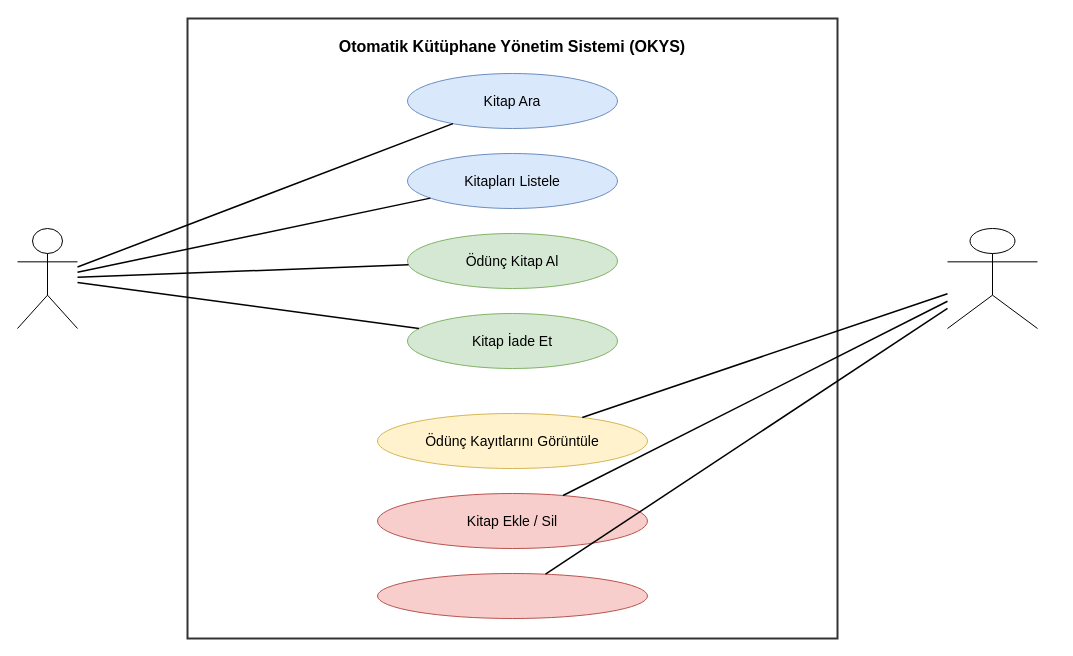
Image size: 1073x656. Some labels were removed from this diagram. Here are the shapes that lost their labels. From the top down, the centre of each, then its label:
At [47,278]: "Kullanıcı".
At [992,278]: "Kütüphane Görevlisi".
At [512,595]: "Kitap Bilgilerini Güncelle".
